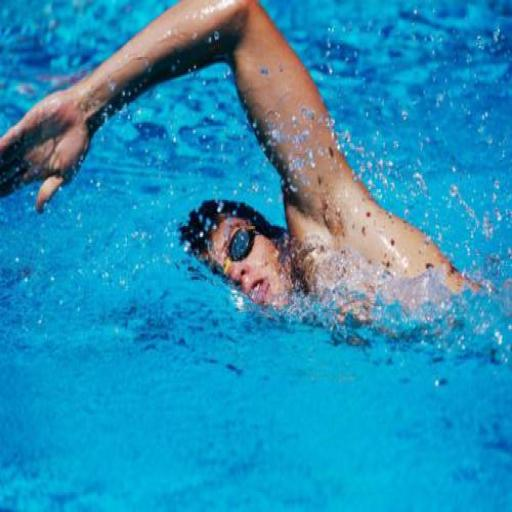swimming: (0, 0, 510, 340)
